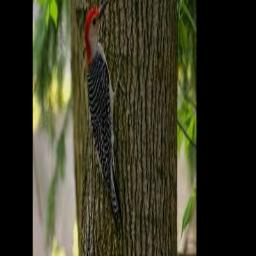Woodpecker: (84, 0, 125, 223)
